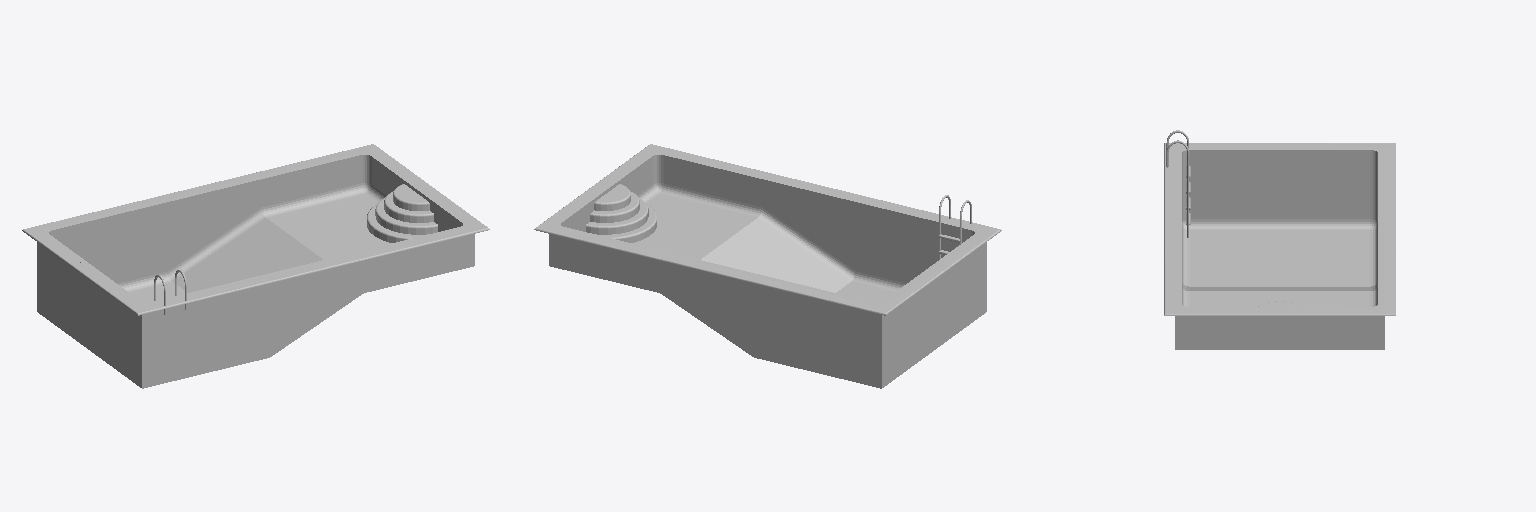
Rendered from pool.obj.
The picture shows the model from 3 angles: view 1: azimuth 30°, elevation 25°; view 2: azimuth 150°, elevation 25°; view 3: azimuth 270°, elevation 25°; orthographic projection.
Visible parts, largest first — view 1: SWIMMING_POOL_1; view 2: SWIMMING_POOL_1; view 3: SWIMMING_POOL_1, SWIMMING_POOL_LADDER_1.
Part boxes in pixels (bbox=[...]): SWIMMING_POOL_1: bbox=[22, 144, 489, 388]; SWIMMING_POOL_1: bbox=[534, 144, 1001, 388]; SWIMMING_POOL_1: bbox=[1164, 143, 1395, 349]; SWIMMING_POOL_LADDER_1: bbox=[1166, 130, 1190, 237].
Size of the model in its own units: 215 by 62.95 by 123.